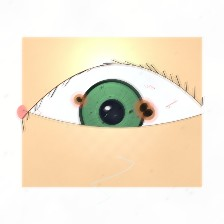foreign_body_visible: (119, 88, 168, 127)
